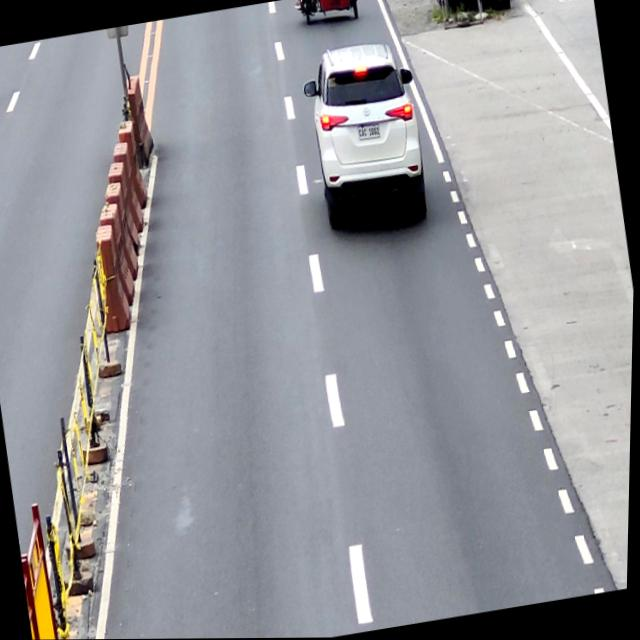Car: (297, 34, 437, 237)
License-Plate: (357, 122, 383, 142)
